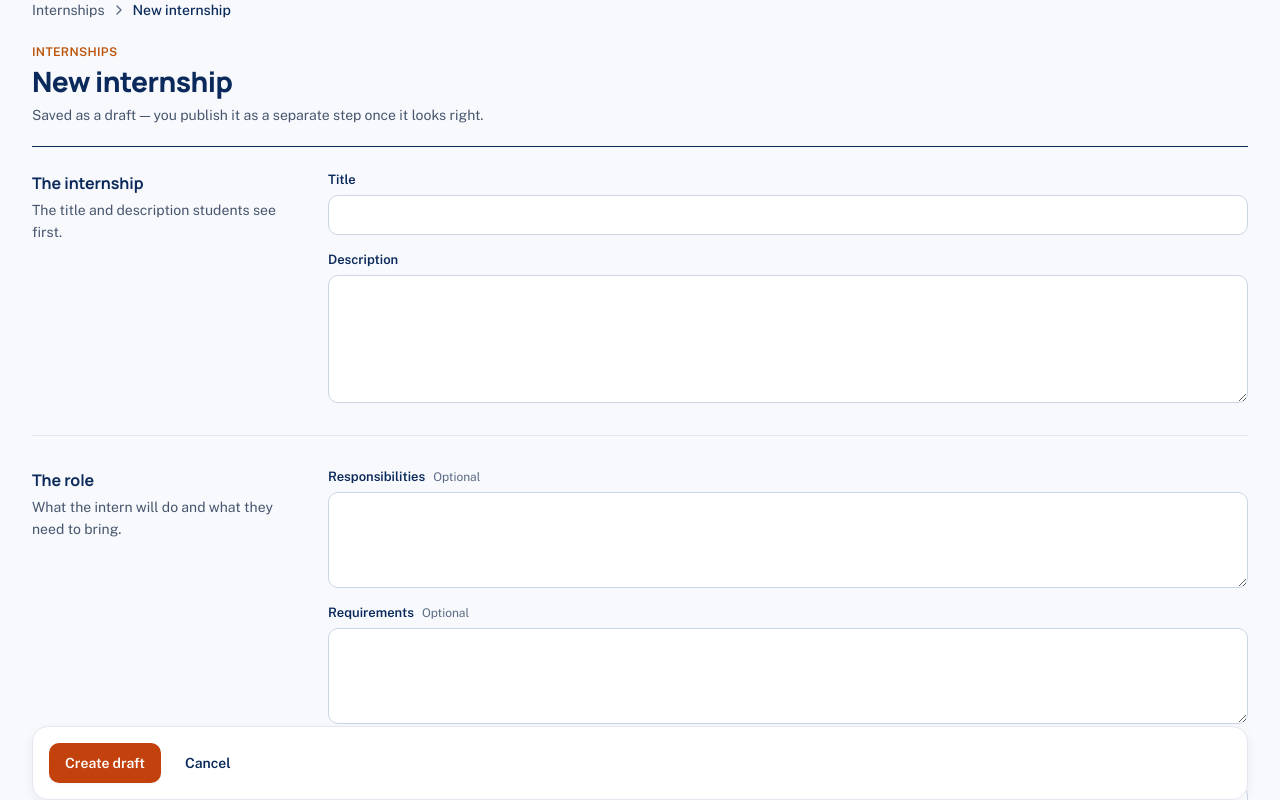
Test: CreateOpportunityPage › requires an application deadline before the start date
Type "Backend Intern" into the field labelled "Title" at (788, 215), box x1=328 y1=195 x2=1248 y2=235
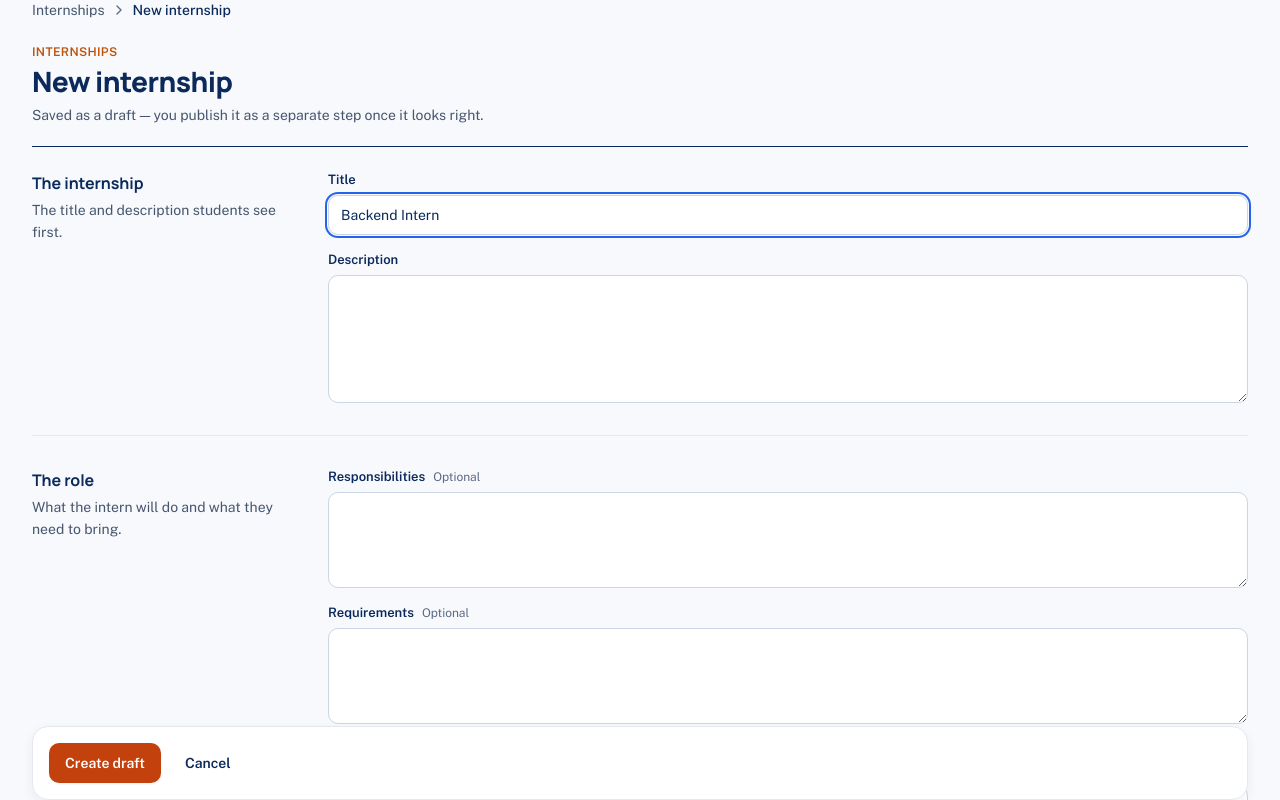
Type "Work on the API." into the text box labelled "Description" at (788, 339), box x1=328 y1=275 x2=1248 y2=403
(page scrolled)
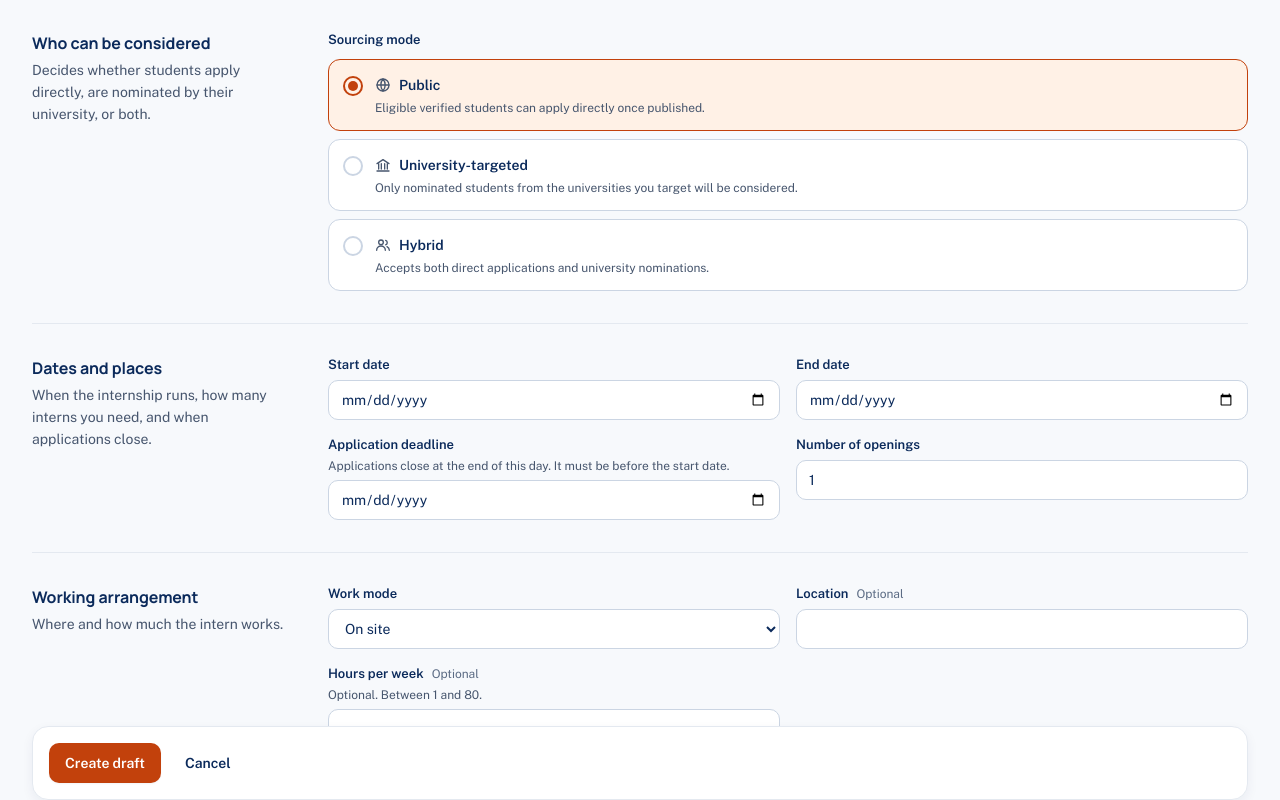
Type "2027-03-01" into the date field labelled "Start date" at (554, 400), box x1=328 y1=380 x2=780 y2=420
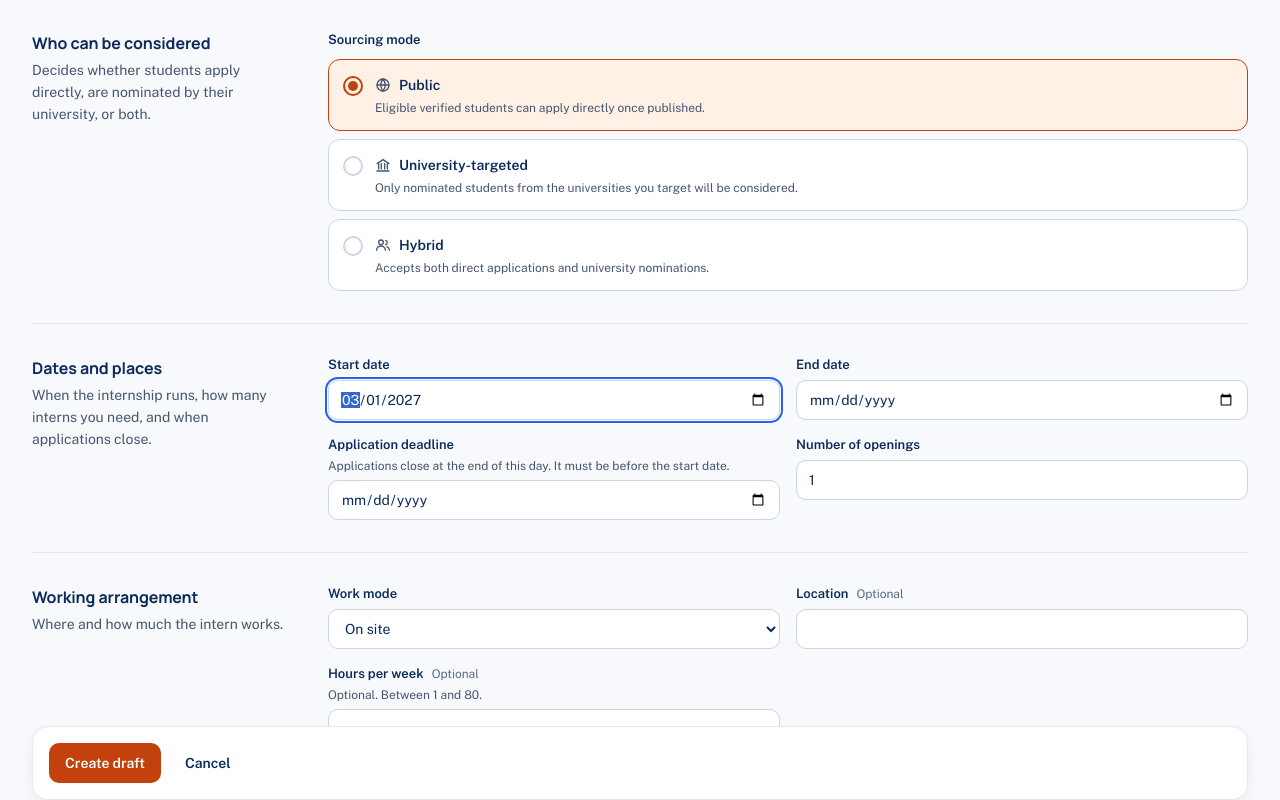
Type "2027-06-01" into the date field labelled "End date" at (1022, 400), box x1=796 y1=380 x2=1248 y2=420
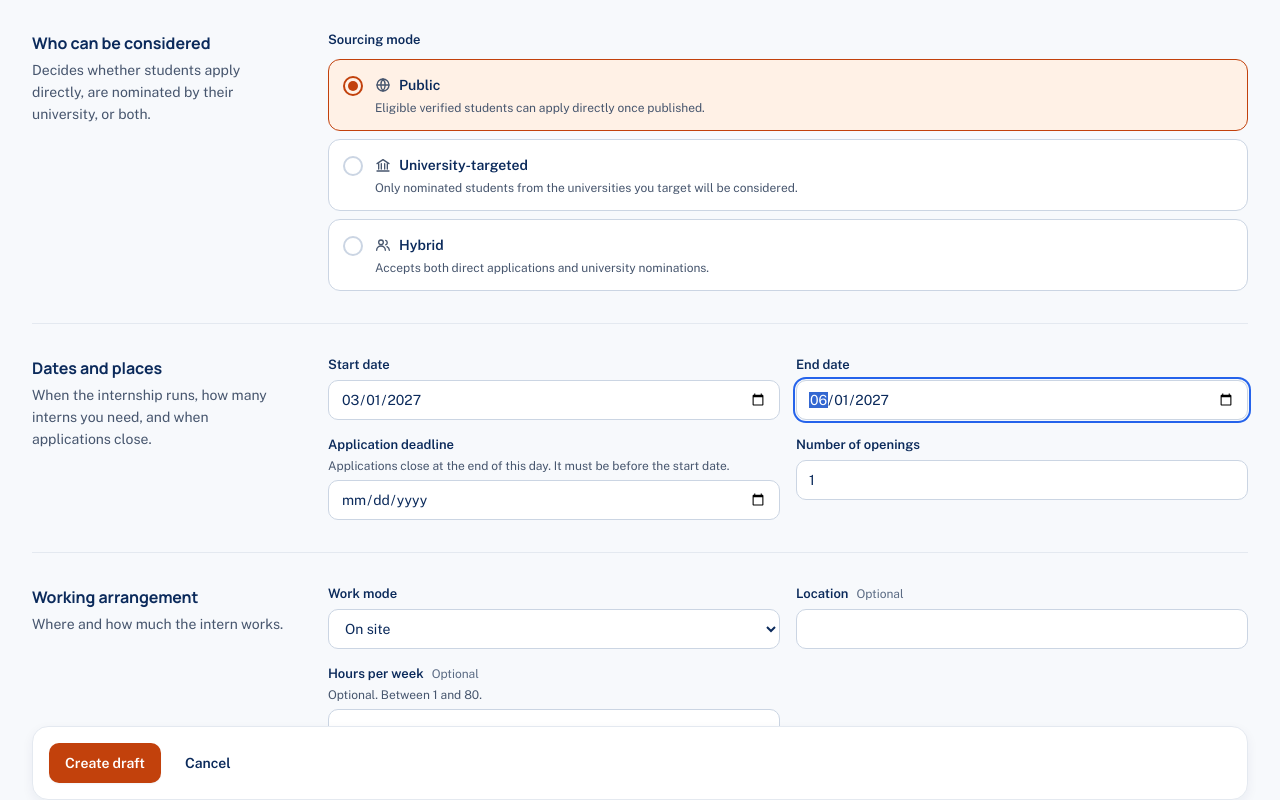
Type "2027-04-01" into the date field labelled "Application deadline" at (554, 500), box x1=328 y1=480 x2=780 y2=520
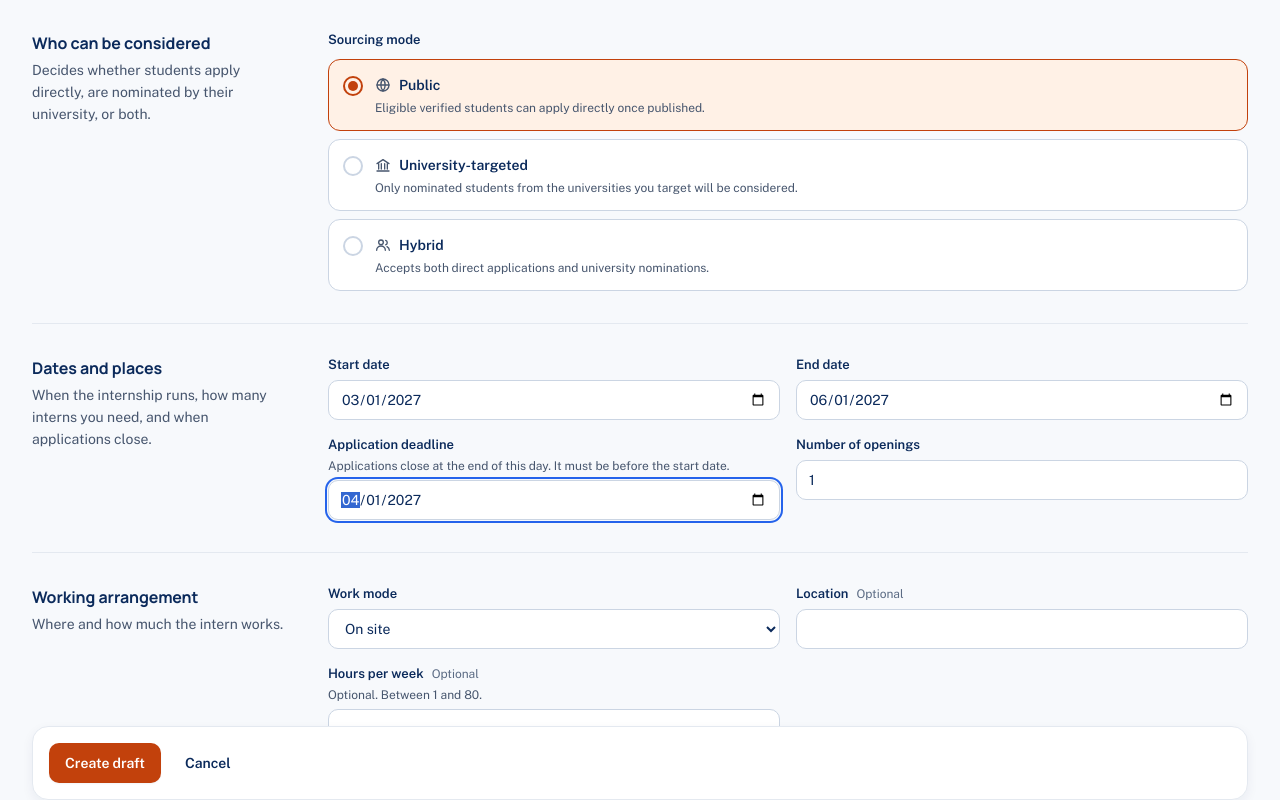
Click the button "Create draft" at (105, 763), box x1=49 y1=743 x2=161 y2=783
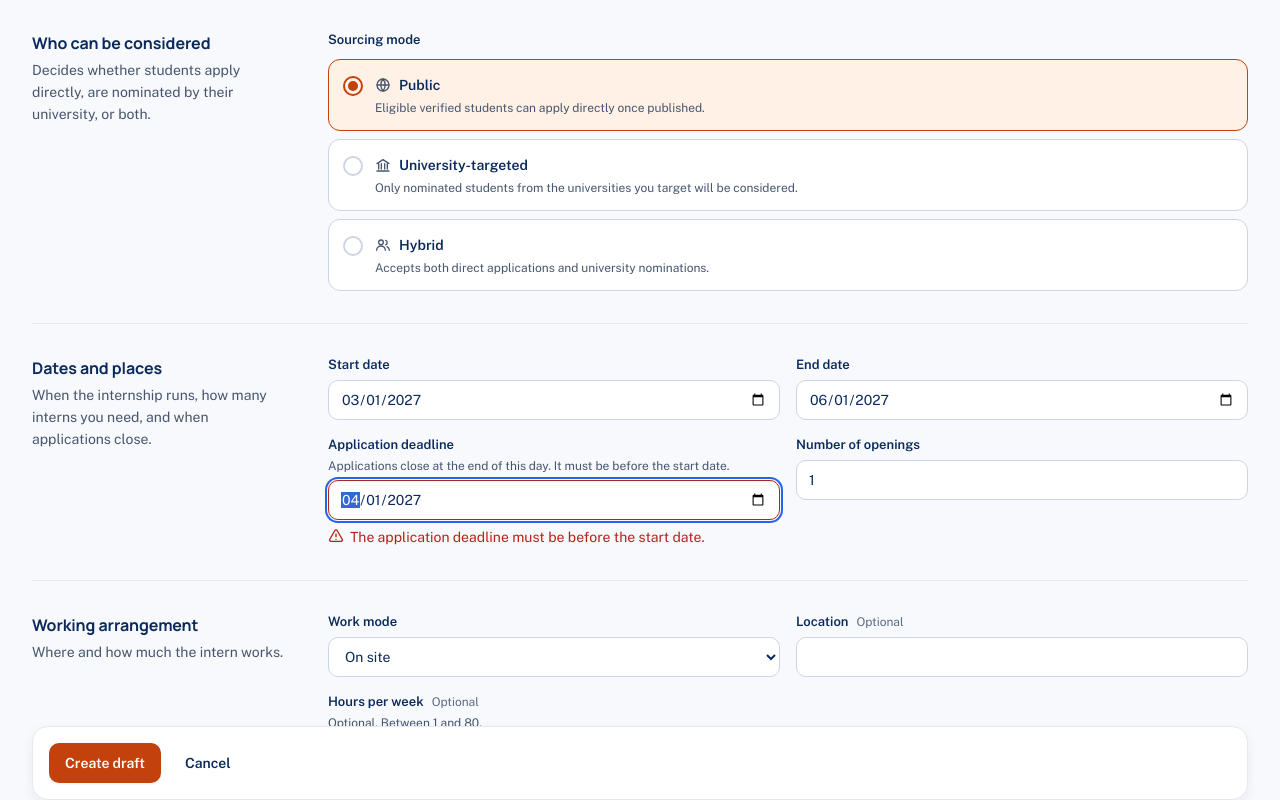
Check: the text "The application deadline must be before the start date." is shown, box x1=328 y1=528 x2=705 y2=545
